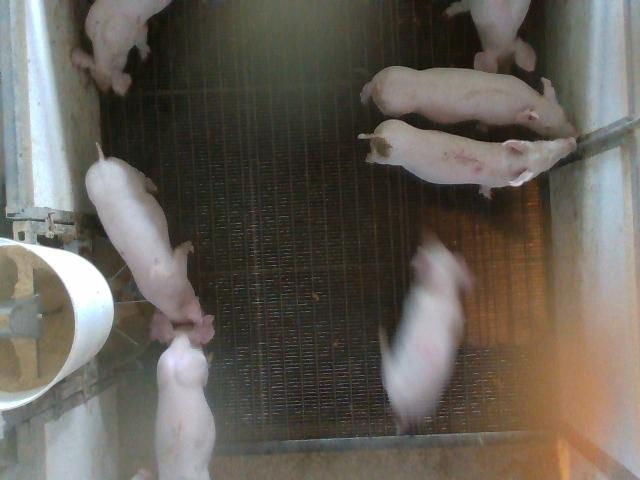pig-4: (379, 232, 472, 433)
pig-5: (359, 119, 575, 197)
